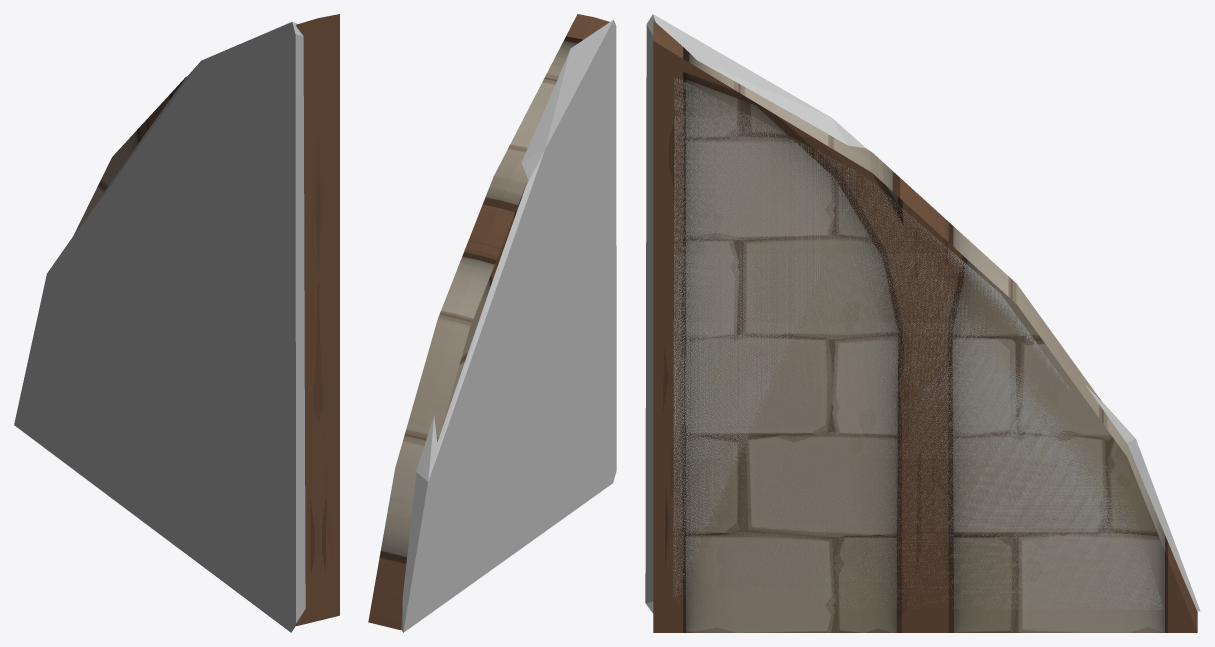
Rendered from SM_Bld_Wall_End_Convex_01.fbx.
3 renders of one model, left to right at view 1: azimuth 30°, elevation 25°; view 2: azimuth 150°, elevation 25°; view 3: azimuth 270°, elevation 25°, orthographic. The views are drawn at different scales.
Visible parts, largest first — view 1: SM_Bld_Wall_End_Convex_01_ConvexHulls, SM_Bld_Wall_End_Convex_01; view 2: SM_Bld_Wall_End_Convex_01_ConvexHulls, SM_Bld_Wall_End_Convex_01; view 3: SM_Bld_Wall_End_Convex_01, SM_Bld_Wall_End_Convex_01_ConvexHulls.
Part boxes in pixels (x1,y1,x2,y2): SM_Bld_Wall_End_Convex_01_ConvexHulls: (14,21,305,632); SM_Bld_Wall_End_Convex_01: (73,14,339,625); SM_Bld_Wall_End_Convex_01_ConvexHulls: (401,20,616,632); SM_Bld_Wall_End_Convex_01: (368,14,609,630); SM_Bld_Wall_End_Convex_01: (653,20,1197,632); SM_Bld_Wall_End_Convex_01_ConvexHulls: (645,14,1200,613).
Size of the model in its own units: 24.95 by 255 by 305.
2 materials, 1 textured.
